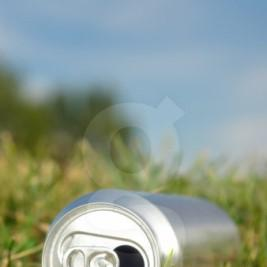beer: (40, 196, 248, 267)
